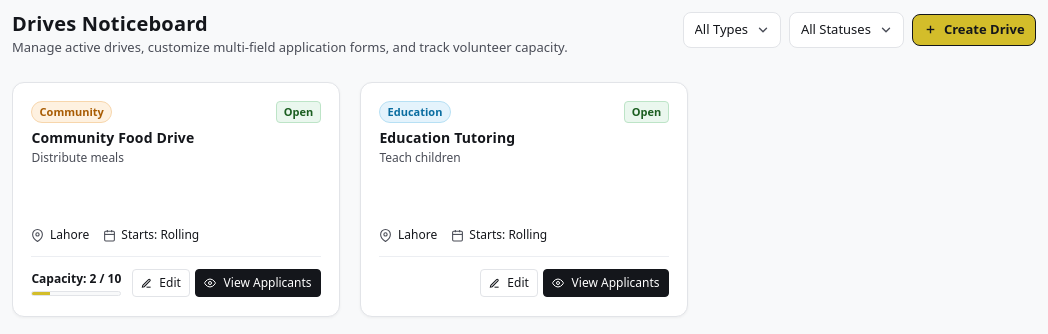
YouthRepublicOpportunitiesPage › filters drives by type dropdown
The width and height of the screenshot is (1048, 334).
Expected: the text "Community Food Drive" is shown, left=31, top=129, right=194, bottom=146
Expected: the text "Education Tutoring" is shown, left=379, top=129, right=515, bottom=146
Select Education type filter
Click the dropdown named "Filter by type". click: click(732, 30)
box: left=683, top=12, right=781, bottom=48
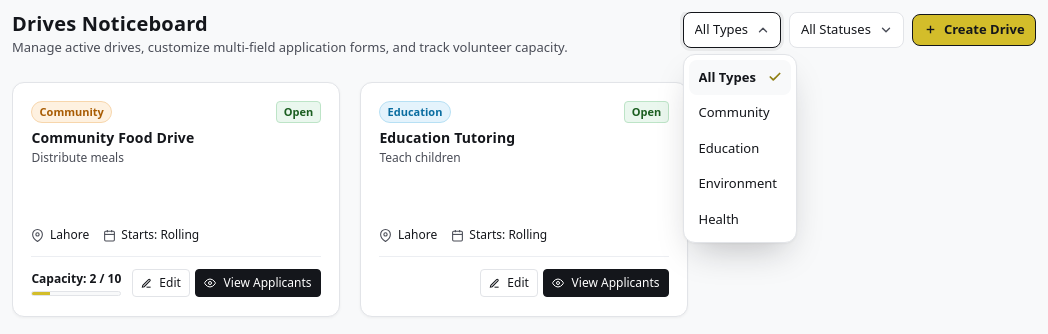
Click the option "Education". click: click(740, 148)
box: left=689, top=131, right=791, bottom=166
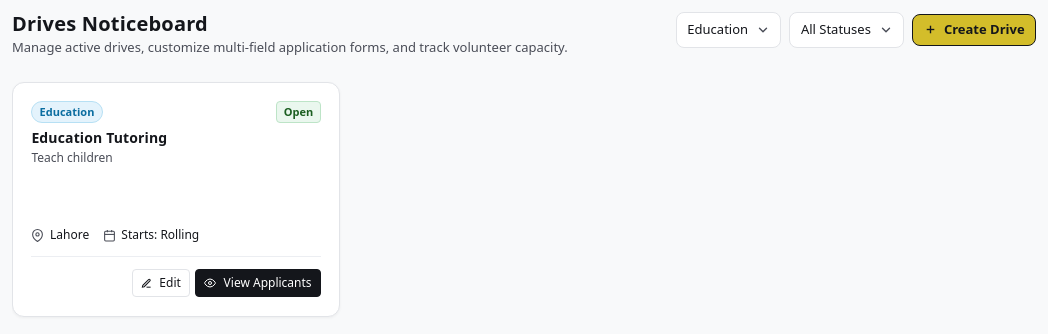
Expected: the text "Education Tutoring" is shown, left=31, top=129, right=167, bottom=146
Expected: the text "Community Food Drive" is gone
